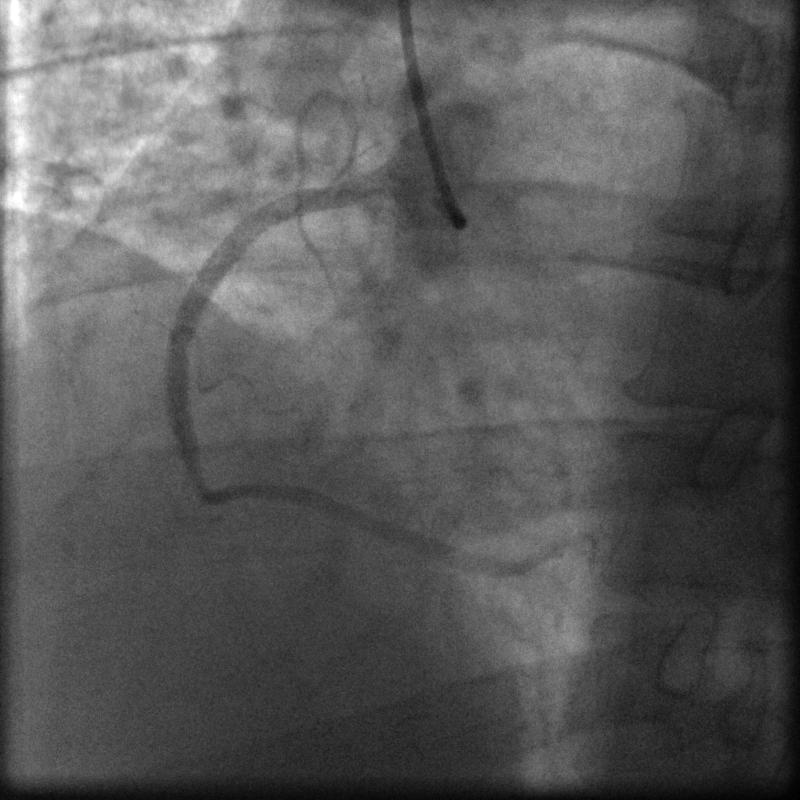Stenosis: (175, 440, 215, 505)
